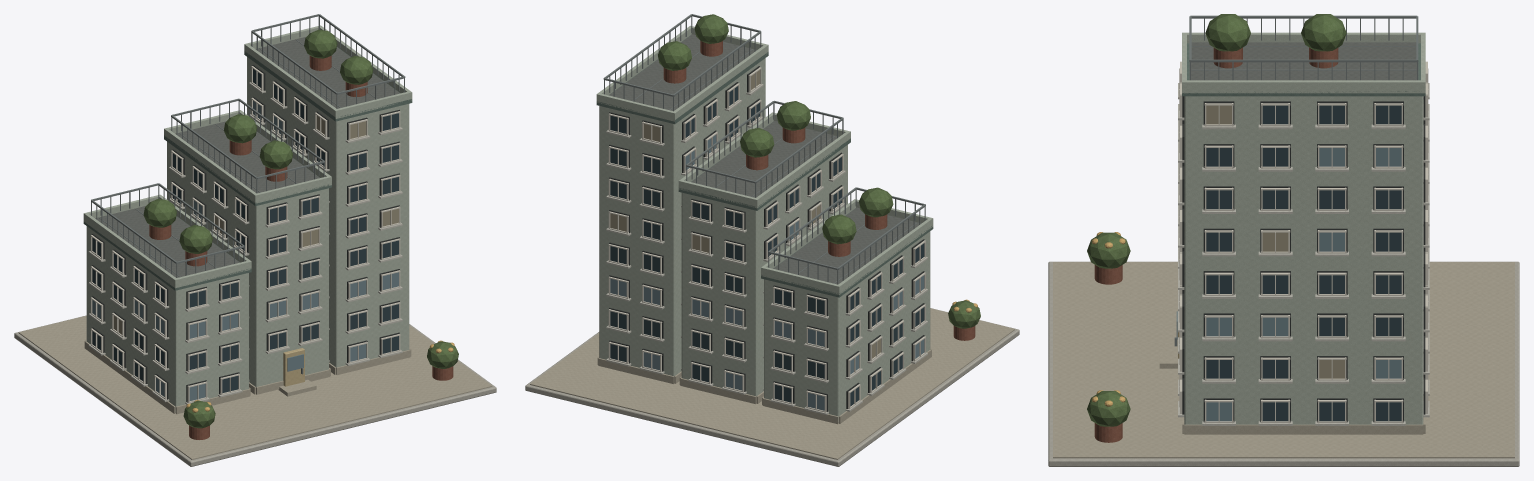
The model's file is EXP_PALAZZO_STEPS.glb.
3 renders of one model, left to right at view 1: azimuth 30°, elevation 25°; view 2: azimuth 150°, elevation 25°; view 3: azimuth 270°, elevation 25°, orthographic. The views are drawn at different scales.
Parts seen in each view (by area): view 1: EXP_PALAZZO_STEPS_Visual; view 2: EXP_PALAZZO_STEPS_Visual; view 3: EXP_PALAZZO_STEPS_Visual.
Boxes of the visible parts, <box> form: EXP_PALAZZO_STEPS_Visual: <box>14,14,496,466</box>; EXP_PALAZZO_STEPS_Visual: <box>525,14,1019,466</box>; EXP_PALAZZO_STEPS_Visual: <box>1048,14,1519,466</box>.
Size of what is drawn, in the model's own units: 5.92 by 5.61 by 5.92.
Materials: 16 (10 with a texture image).
